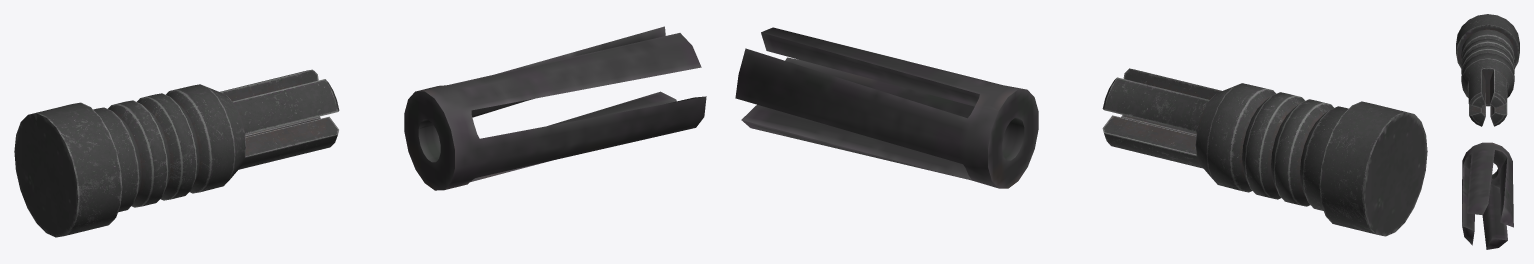
Rendered from L_FlashHider.FBX.
3 views of the same model, side by side, from view 1: azimuth 30°, elevation 25°; view 2: azimuth 150°, elevation 25°; view 3: azimuth 270°, elevation 25° (orthographic). The views are drawn at different scales.
Parts seen in each view (by area): view 1: L_FlashHider_01, L_FlashHider_MK14_Set; view 2: L_FlashHider_01, L_FlashHider_MK14_Set; view 3: L_FlashHider_01, L_FlashHider_MK14_Set.
Boxes of the visible parts, bbox=[...] form: L_FlashHider_01: bbox=[14, 69, 339, 237]; L_FlashHider_MK14_Set: bbox=[404, 26, 706, 190]; L_FlashHider_01: bbox=[1102, 68, 1427, 236]; L_FlashHider_MK14_Set: bbox=[735, 27, 1038, 188]; L_FlashHider_01: bbox=[1456, 14, 1519, 126]; L_FlashHider_MK14_Set: bbox=[1462, 142, 1513, 249].
Bounding box in the file's own units: 14.03 × 3.43 × 2.44.
